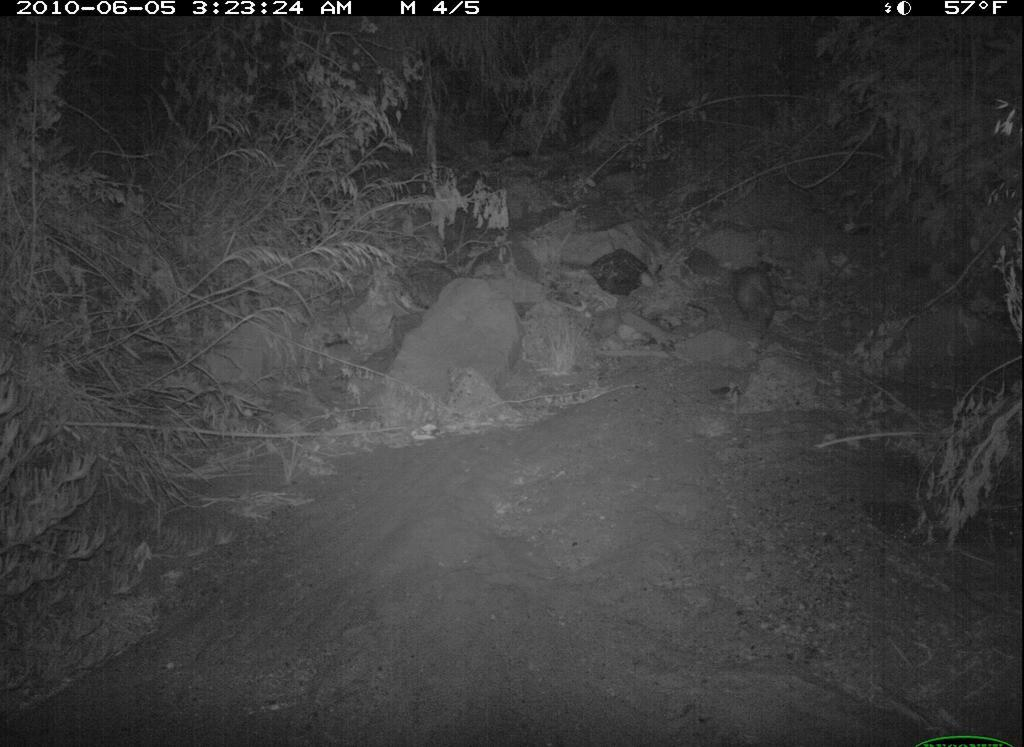opossum: (726, 261, 784, 359)
